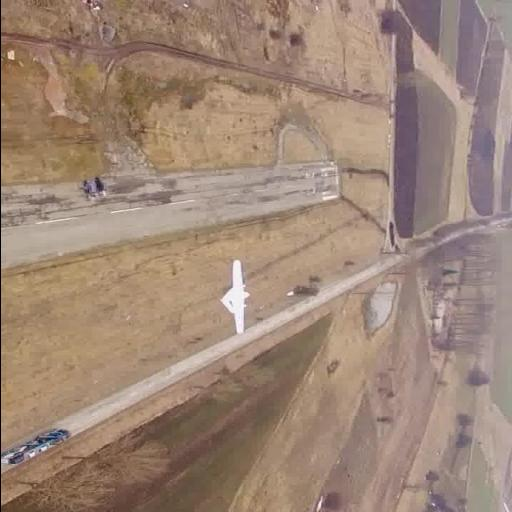uav: (212, 254, 258, 340)
